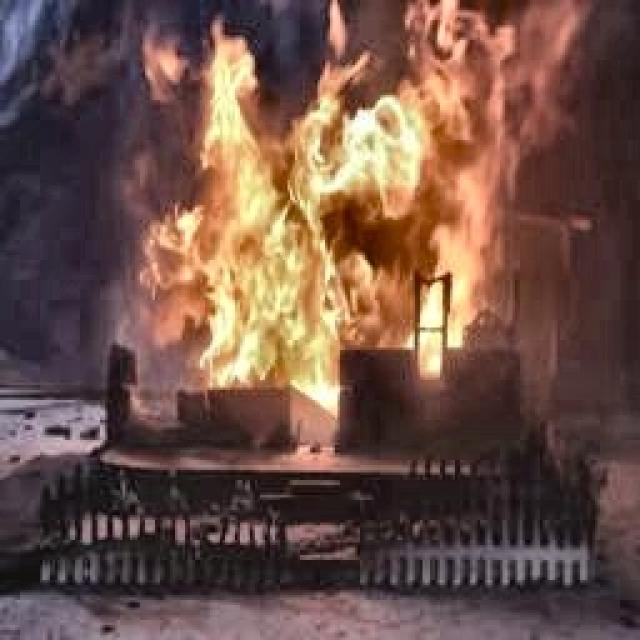fire: (114, 4, 596, 421)
